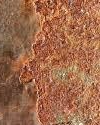Corrosion: (18, 1, 100, 125)
